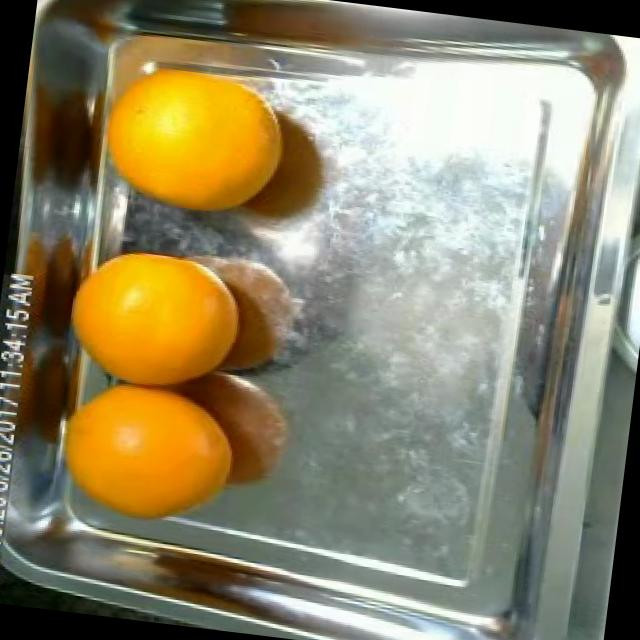Fruit: (80, 56, 314, 240), (38, 237, 274, 409), (32, 367, 258, 540)
